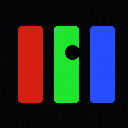2 circle: (65, 45, 79, 59)
